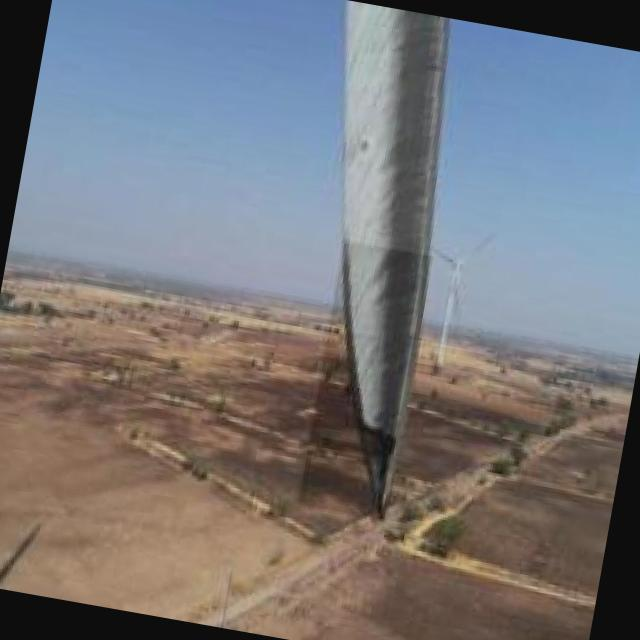Dirt: (378, 5, 448, 430)
Oil LEAKAGE: (341, 240, 365, 420), (358, 427, 400, 524)
Pin Hole: (356, 136, 371, 156)
